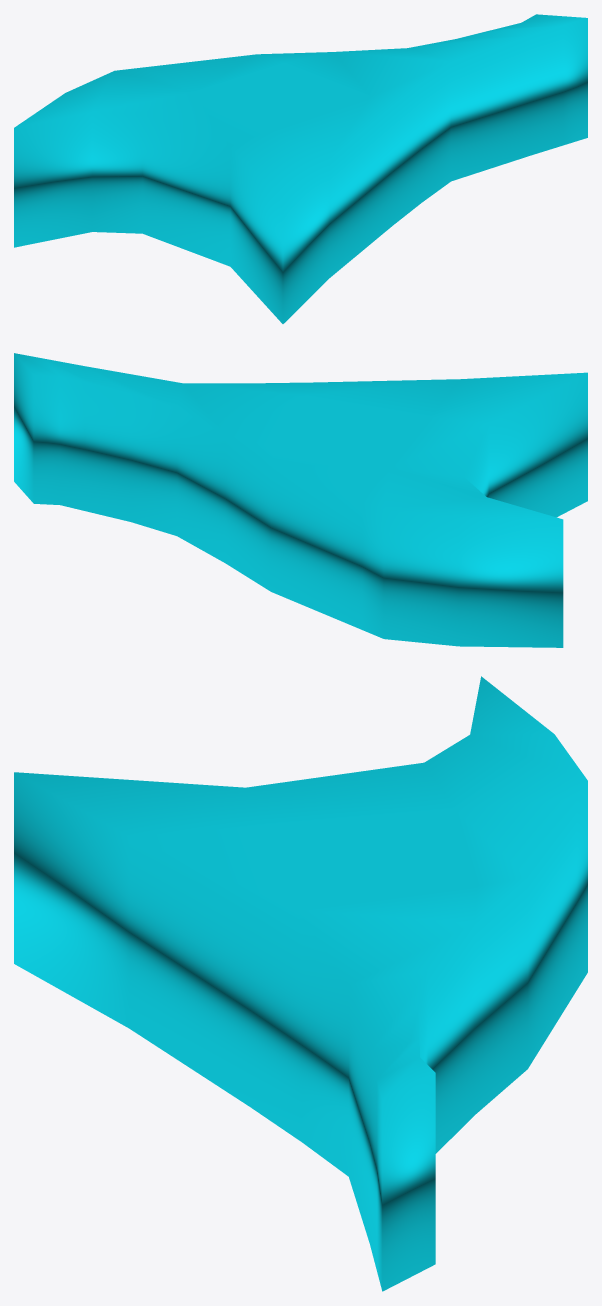
The model's file is circle_puzzle_piece_4.glb.
3 views of the same model, one above another, from view 1: azimuth 30°, elevation 25°; view 2: azimuth 150°, elevation 25°; view 3: azimuth 270°, elevation 25° (orthographic). The views are drawn at different scales.
Visible parts, largest first — view 1: circle_puzzle.004; view 2: circle_puzzle.004; view 3: circle_puzzle.004.
Boxes of the visible parts, x1,y1,x2,y2 form: circle_puzzle.004: [14, 14, 587, 323]; circle_puzzle.004: [14, 353, 587, 647]; circle_puzzle.004: [14, 676, 587, 1291].
Size of the model in its own units: 2.59 by 0.5465 by 1.48.
